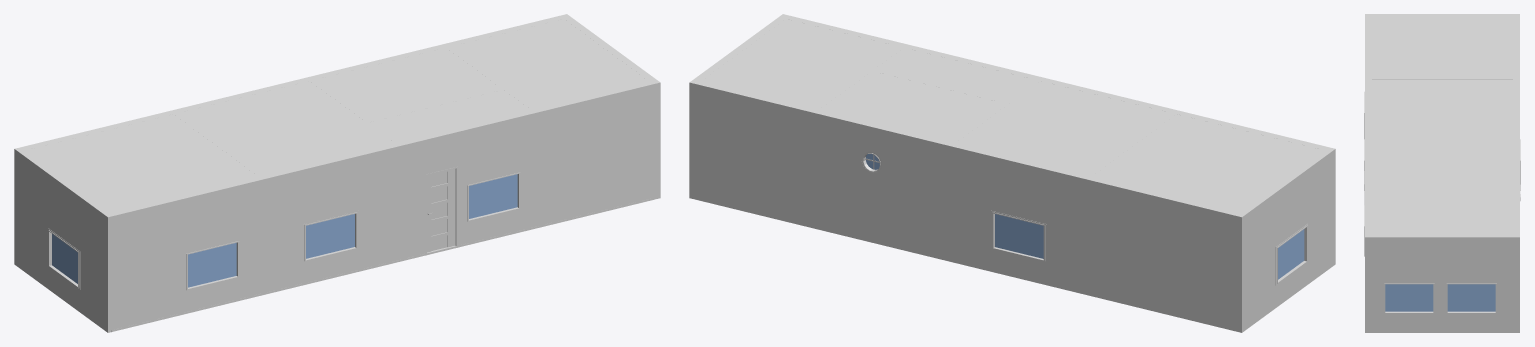
File: Project.fbx
The picture shows the model from 3 angles, left to right: view 1: azimuth 30°, elevation 25°; view 2: azimuth 150°, elevation 25°; view 3: azimuth 270°, elevation 25°; orthographic projection. The views are drawn at different scales.
Parts seen in each view (by area): view 1: Casa, Teto, Vidro, Porta, Chao, BatenteJanela.001, BatenteJanela, BatenteJanela.003, BatentePorta, BatenteJanela.004; view 2: Casa, Teto, Vidro, BatenteJanela.002, BatenteJanela.004; view 3: Teto, Casa, Vidro, BatenteJanela.006, BatenteJanela.005.
Boxes of the visible parts, x1=… form: Casa: x1=14, y1=14, x2=660, y2=332; Teto: x1=26, y1=19, x2=648, y2=212; Vidro: x1=52, y1=174, x2=517, y2=287; Porta: x1=427, y1=168, x2=455, y2=252; Chao: x1=111, y1=197, x2=654, y2=332; BatenteJanela.001: x1=185, y1=239, x2=240, y2=291; BatenteJanela: x1=466, y1=171, x2=521, y2=222; BatenteJanela.003: x1=303, y1=210, x2=358, y2=262; BatentePorta: x1=425, y1=166, x2=458, y2=255; BatenteJanela.004: x1=48, y1=228, x2=80, y2=289; Casa: x1=689, y1=14, x2=1335, y2=332; Teto: x1=701, y1=19, x2=1323, y2=212; Vidro: x1=866, y1=154, x2=1304, y2=279; BatenteJanela.002: x1=991, y1=210, x2=1046, y2=262; BatenteJanela.004: x1=1275, y1=224, x2=1307, y2=285; Teto: x1=1372, y1=17, x2=1512, y2=234; Casa: x1=1365, y1=14, x2=1519, y2=332; Vidro: x1=1385, y1=284, x2=1495, y2=311; BatenteJanela.006: x1=1445, y1=282, x2=1498, y2=314; BatenteJanela.005: x1=1383, y1=282, x2=1435, y2=314.
Size of the model in its own units: 1504 by 301 by 444.
